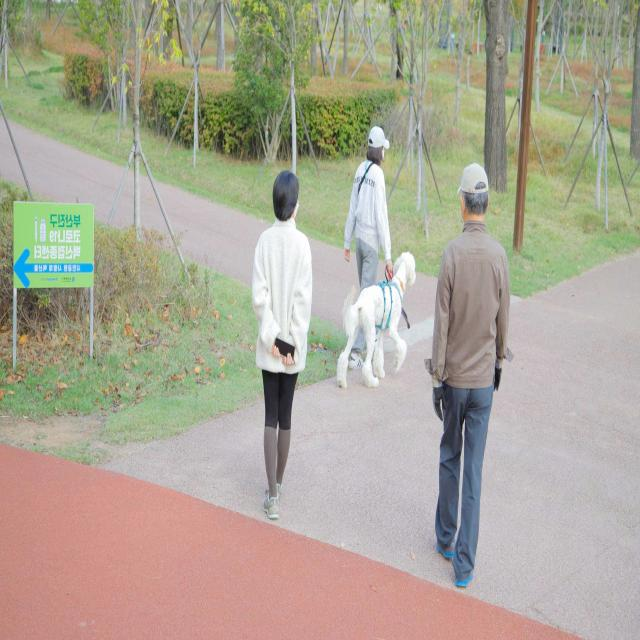Leashed_Dog: (337, 251, 416, 389)
